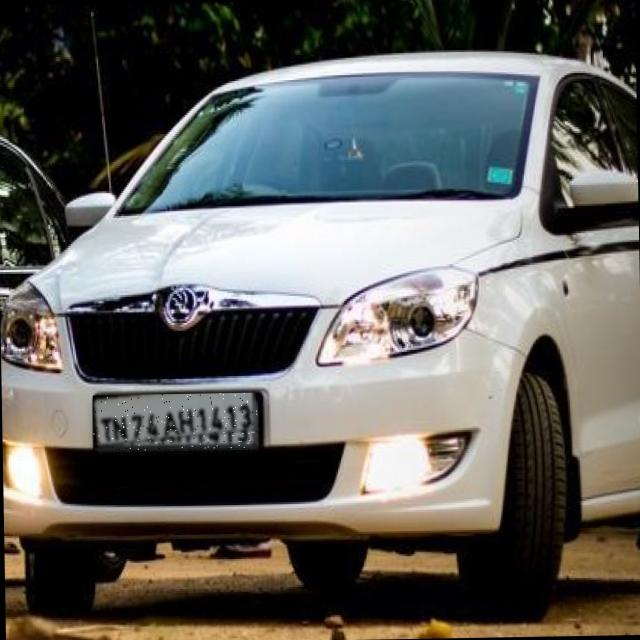Plate: (94, 394, 259, 453)
